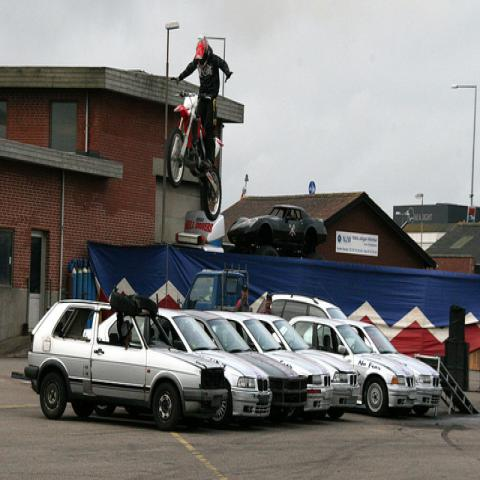car: (22, 294, 234, 434), (164, 305, 308, 423), (288, 317, 442, 419), (200, 309, 334, 422), (241, 312, 359, 420), (156, 308, 273, 416), (228, 204, 328, 250), (256, 294, 350, 322)
motorcycle: (166, 89, 226, 224)
truck: (180, 269, 250, 310), (174, 209, 225, 246)
